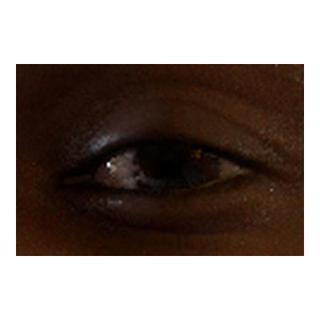pupil: (157, 148, 196, 187)
